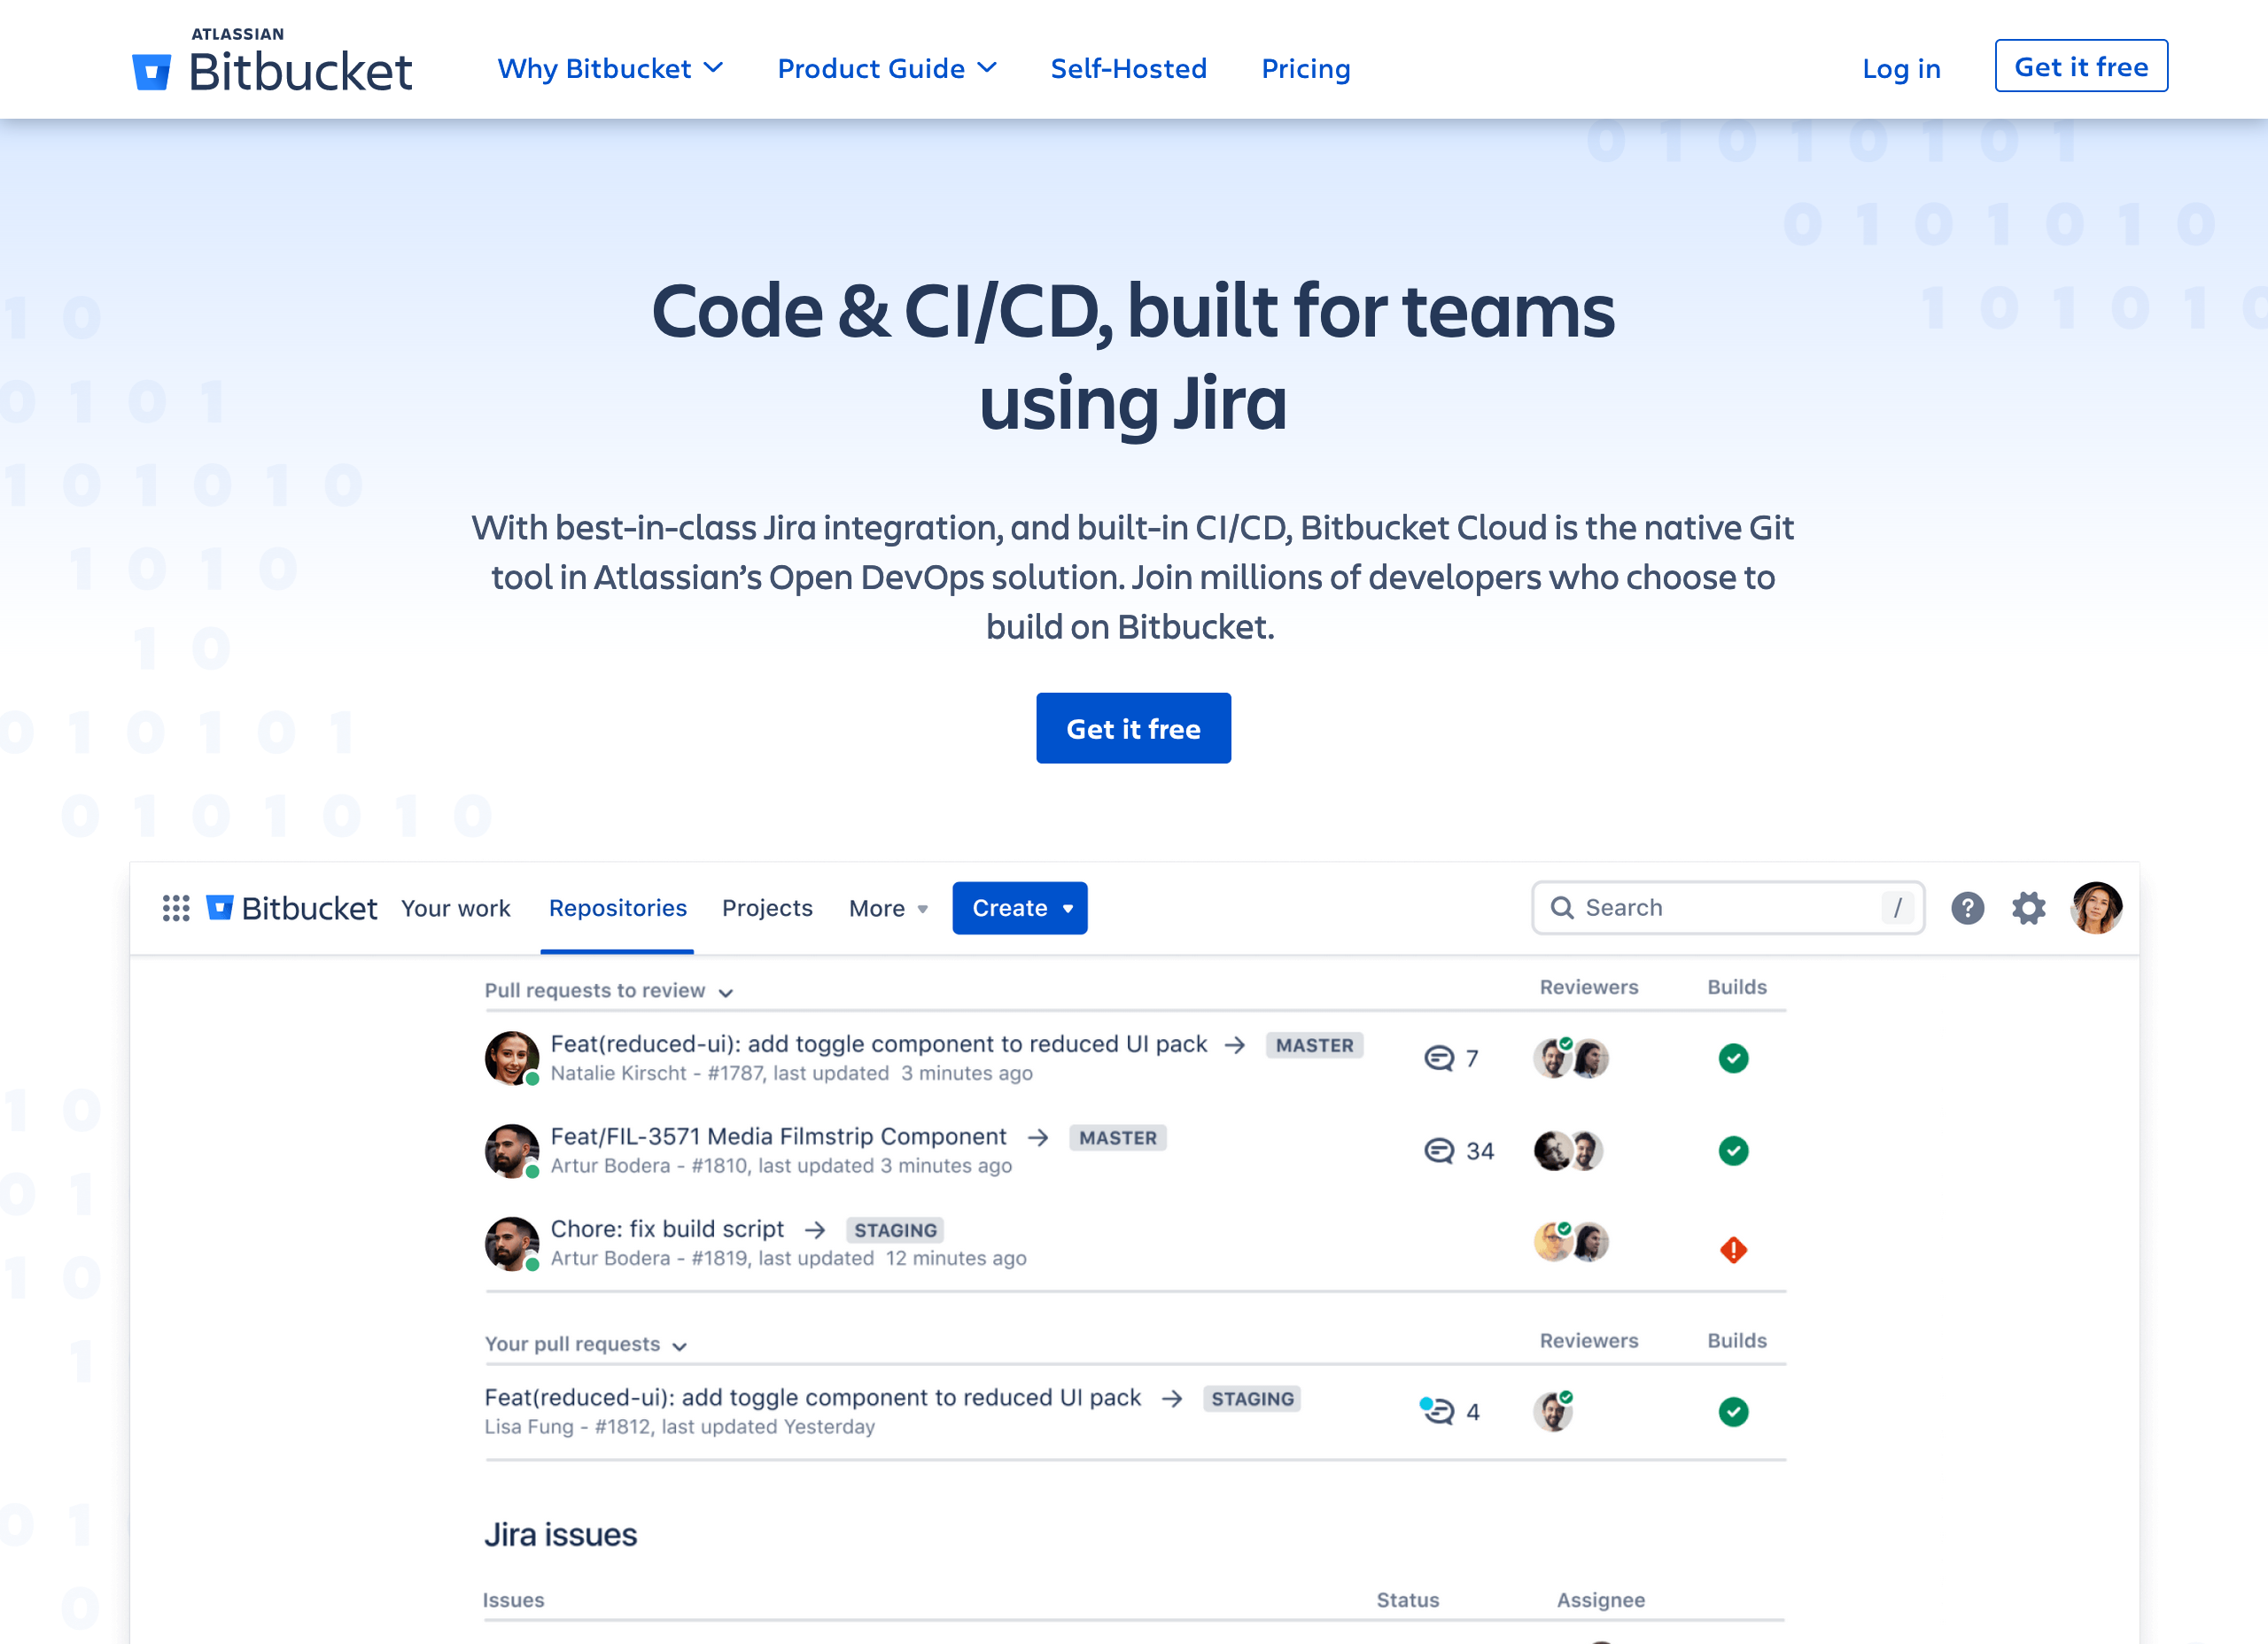Login: (1851, 35, 1956, 92)
